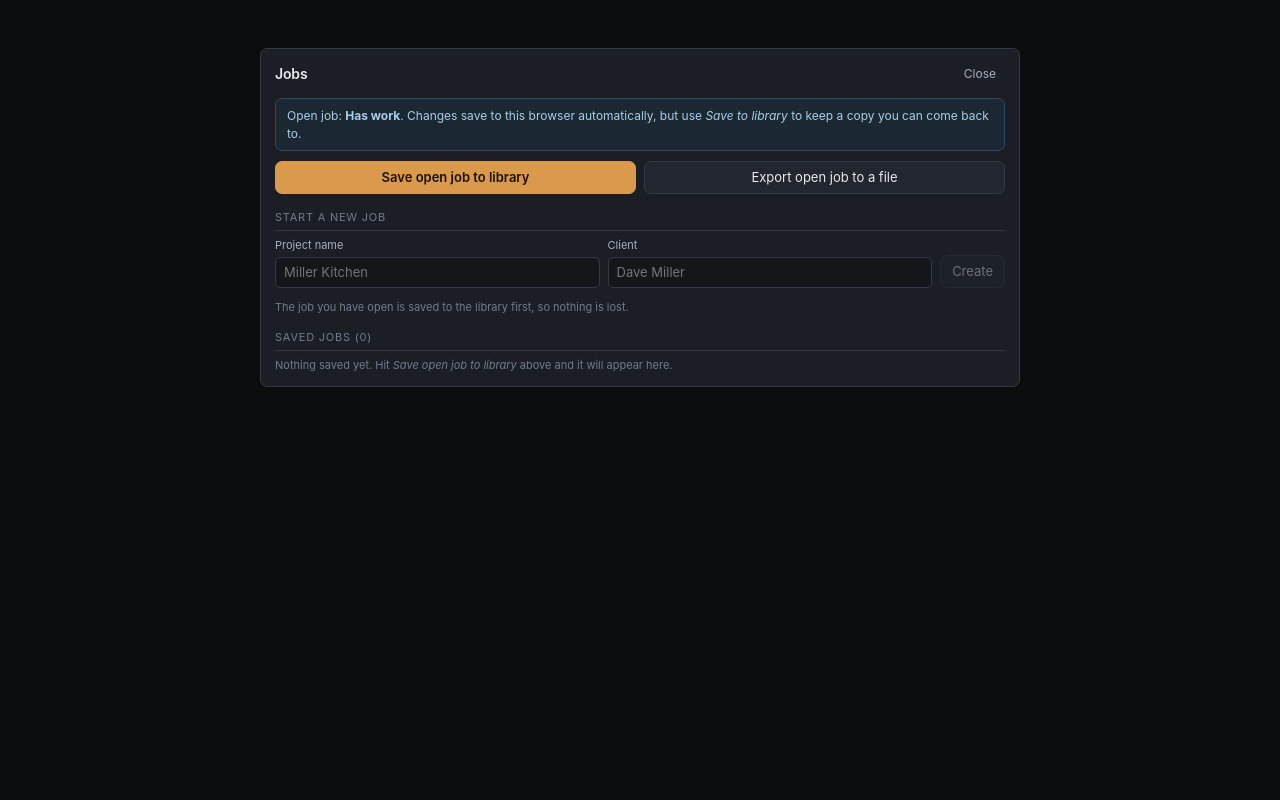
Test: JobsPanel › files the open job before starting a new one, so nothing is lost
In the field with placeholder "Miller Kitchen": (437, 272) 275,257 -> 600,288, type "Fresh"
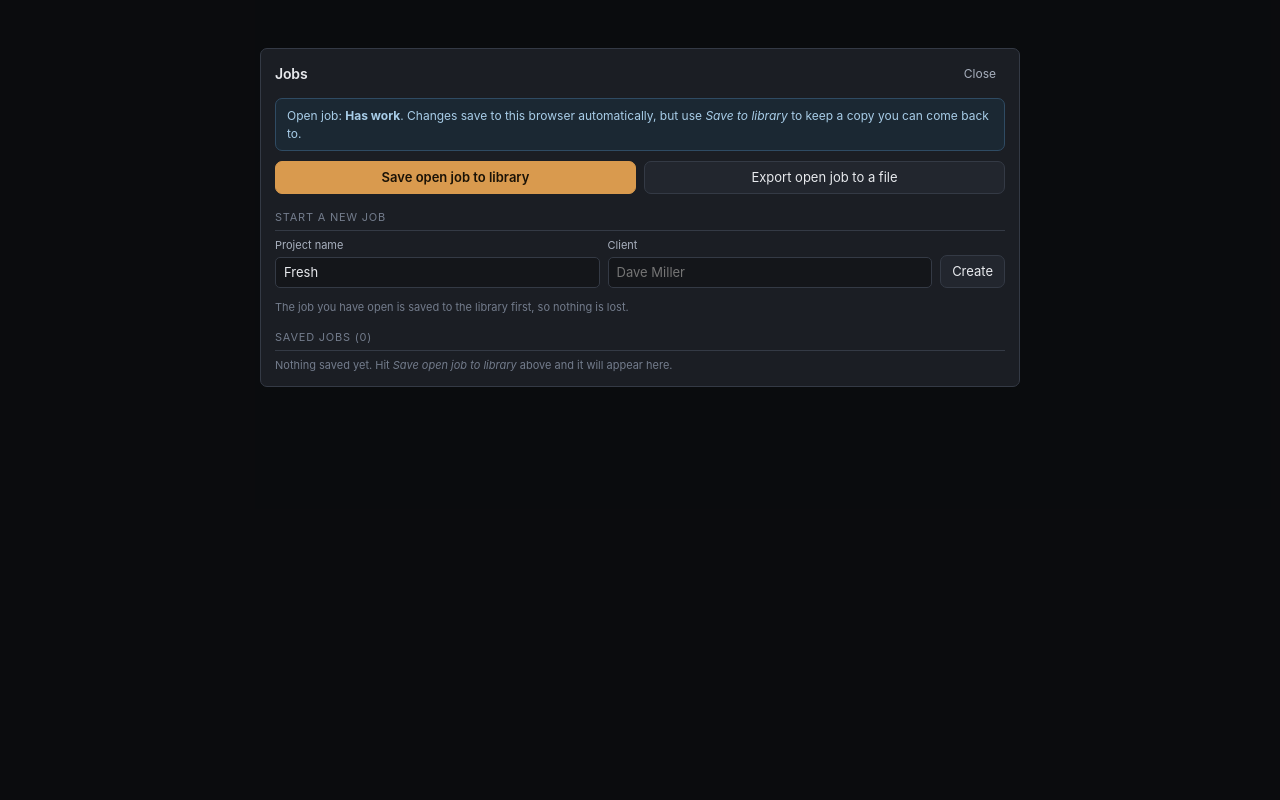
In the field with placeholder "Dave Miller": (770, 272) 608,257 -> 932,288, type "Dave"
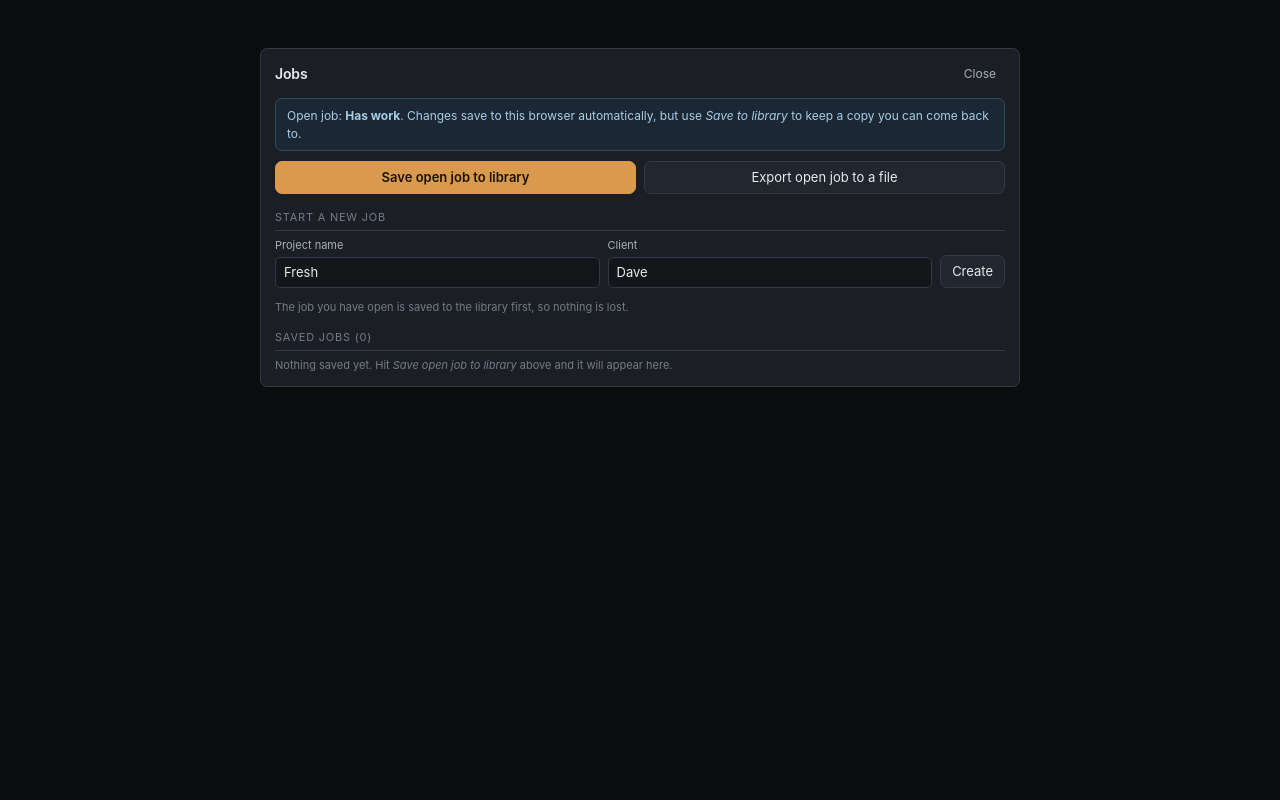
Click the button "Create": (973, 271) 940,255 -> 1005,288
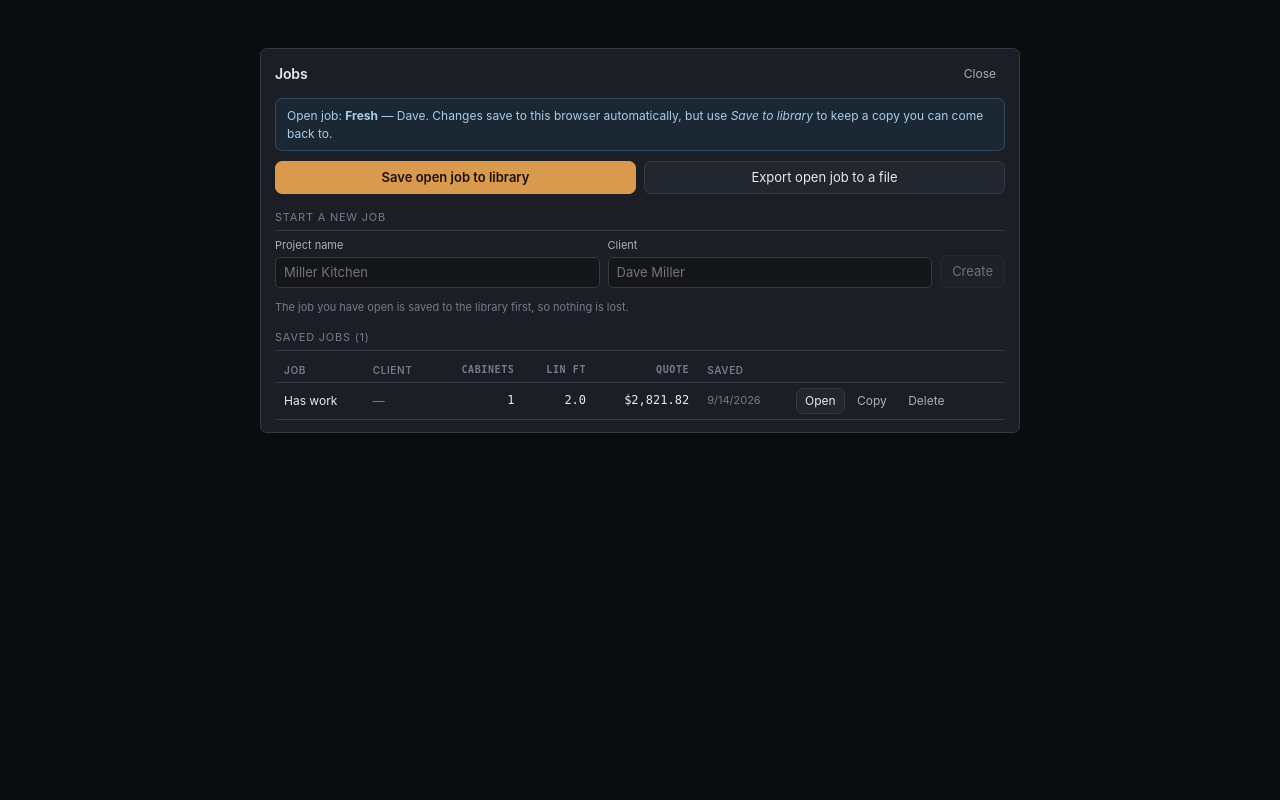
Expected: the text "Fresh" is shown, 345,108 -> 378,123
